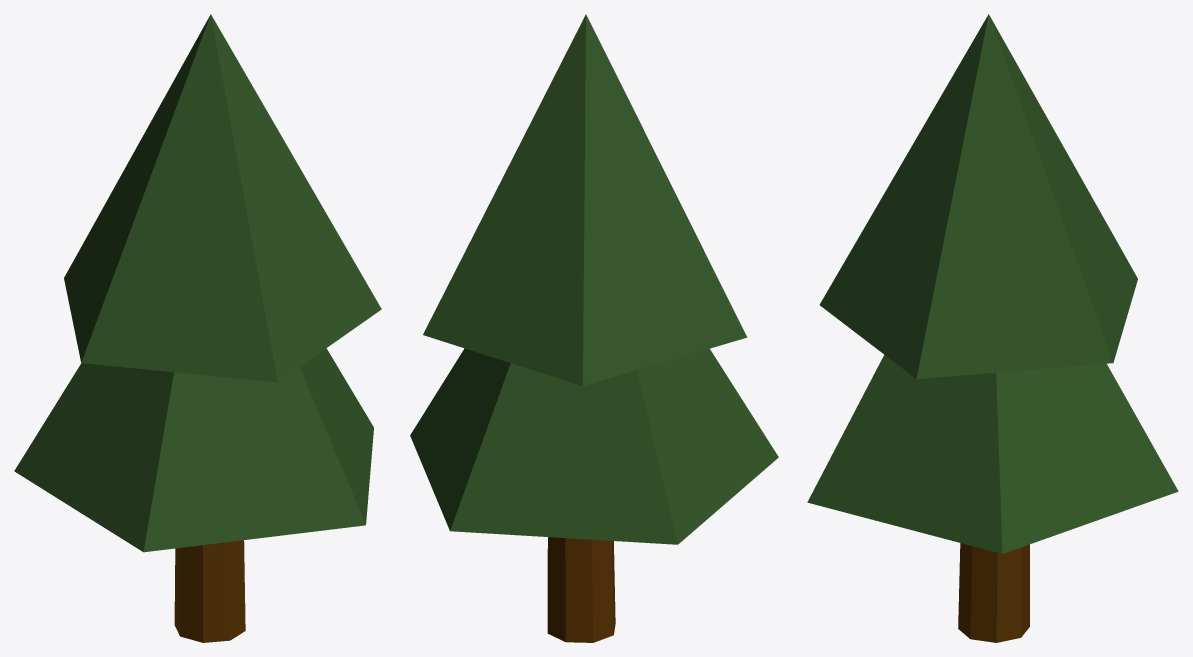
File: Tree6.fbx
3 views of the same model, side by side, from view 1: azimuth 30°, elevation 25°; view 2: azimuth 150°, elevation 25°; view 3: azimuth 270°, elevation 25° (orthographic).
Parts seen in each view (by area): view 1: Tree6; view 2: Tree6; view 3: Tree6.
Boxes of the visible parts, x1,y1,x2,y2 form: Tree6: (14,14,381,642); Tree6: (410,14,778,642); Tree6: (807,14,1178,642).
Size of the model in its own units: 106 by 198 by 109.
